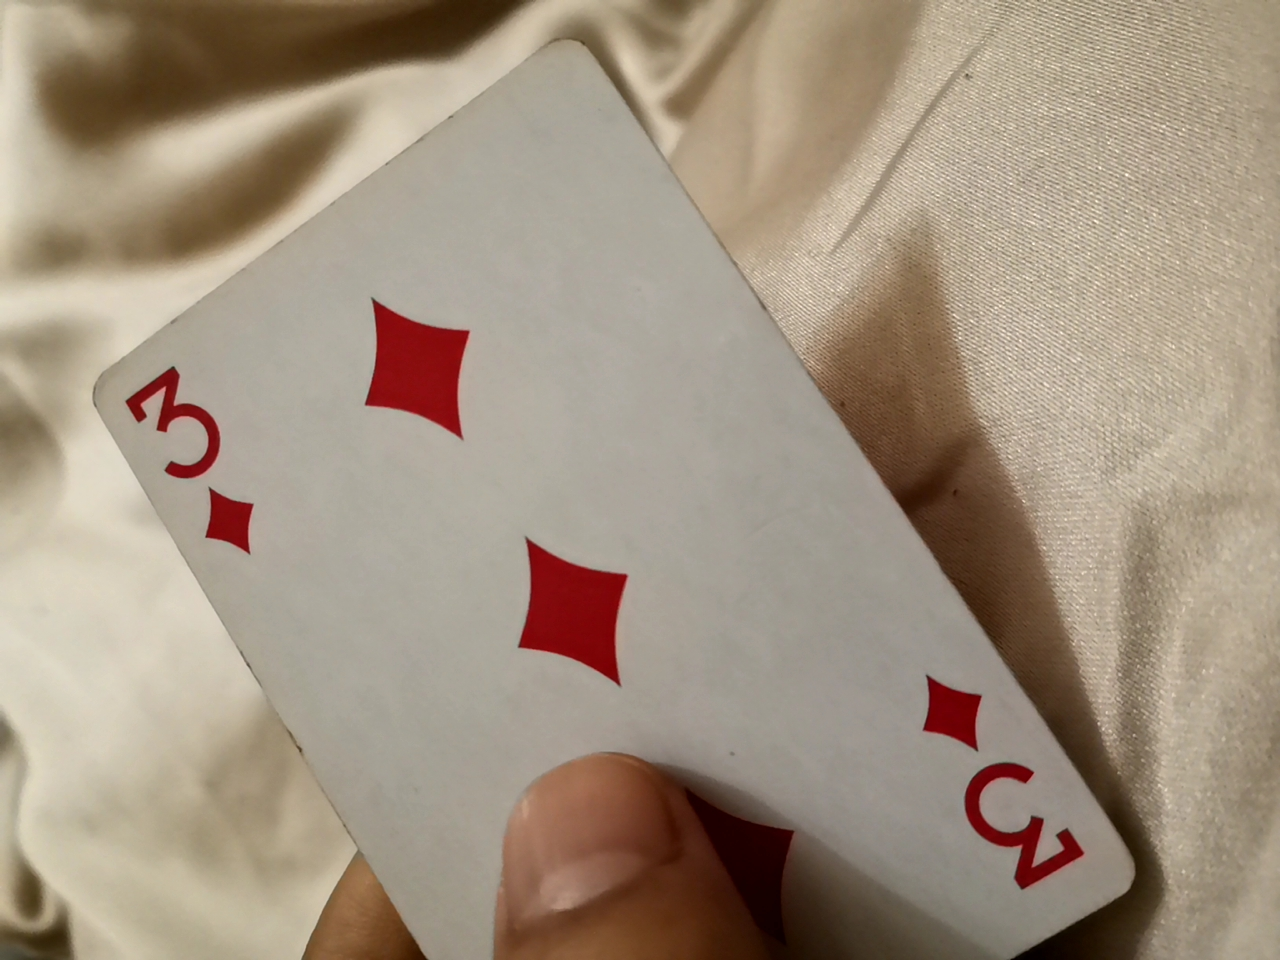fk 3: (77, 22, 1154, 953)
